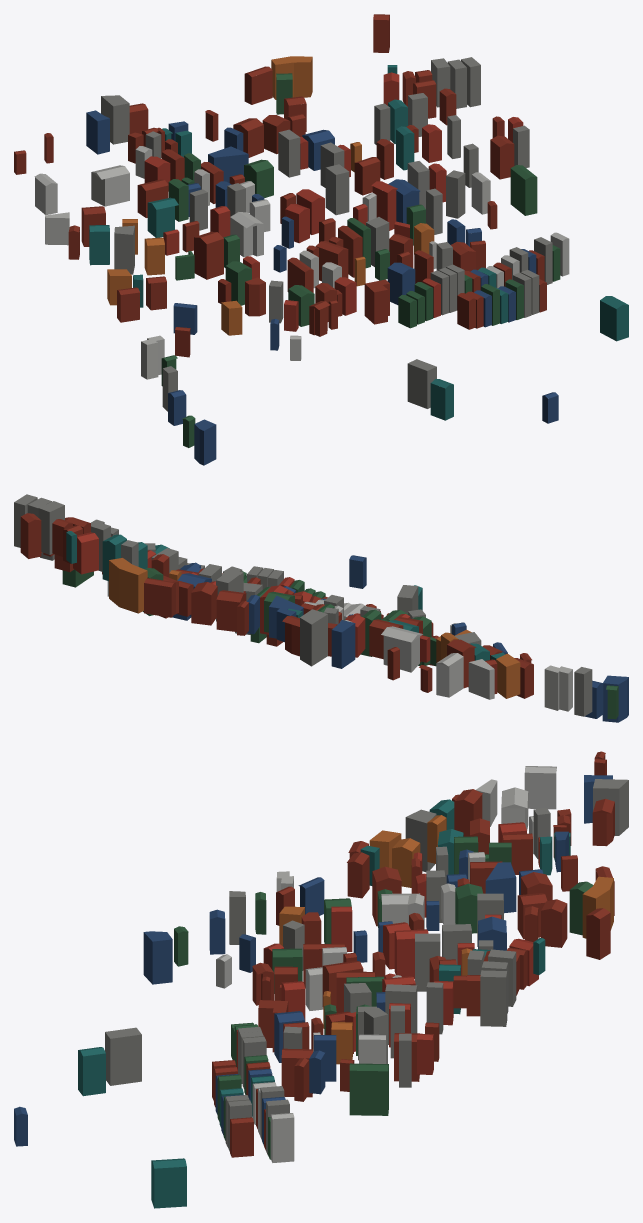
Rendered from near-17-109432-59478.90743003.glb.
The picture shows the model from 3 angles, top to bottom: view 1: azimuth 30°, elevation 25°; view 2: azimuth 150°, elevation 25°; view 3: azimuth 270°, elevation 25°; orthographic projection. The views are drawn at different scales.
Size of the model in its own units: 304 by 147 by 292.
